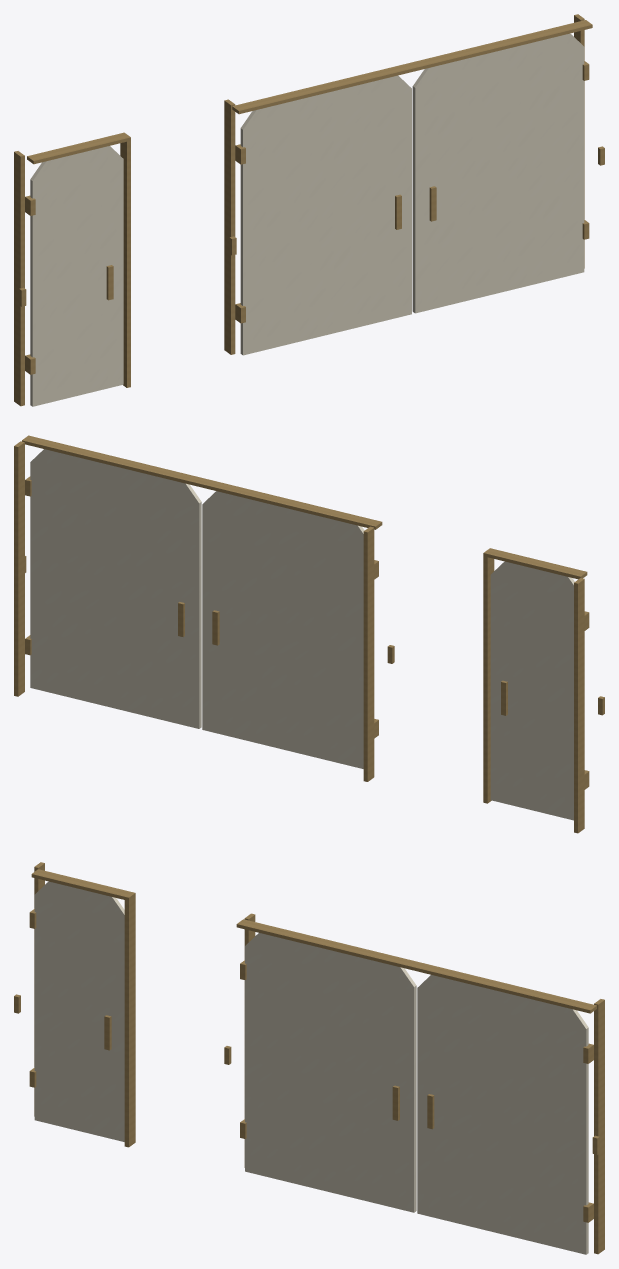
Rendered from D04_PORT_CENTRAL_SHORT_SERVICE_TRANSITIONS_r002.glb.
The picture shows the model from 3 angles, top to bottom: view 1: azimuth 30°, elevation 25°; view 2: azimuth 150°, elevation 25°; view 3: azimuth 330°, elevation 25°; orthographic projection.
Parts seen in each view (by area): view 1: PCCShortStockR_Leaf, PCCShortStockL_Leaf, PCCShortReturn_Leaf, PCCShortStockPair_Head, PCCShortStockL_JambPivot, PCCShortReturn_JambPivot, PCCShortReturn_JambLatch, PCCShortReturn_Head; view 2: PCCShortStockR_Leaf, PCCShortStockL_Leaf, PCCShortReturn_Leaf, PCCShortStockPair_Head, PCCShortStockL_JambPivot, PCCShortStockR_JambPivot, PCCShortReturn_JambPivot, PCCShortReturn_JambLatch, PCCShortReturn_Head; view 3: PCCShortStockL_Leaf, PCCShortStockR_Leaf, PCCShortReturn_Leaf, PCCShortStockPair_Head, PCCShortReturn_JambLatch, PCCShortStockR_JambPivot, PCCShortReturn_Head.
Part boxes in pixels (bbox=[...]): PCCShortStockR_Leaf: bbox=[412, 33, 584, 313]; PCCShortStockL_Leaf: bbox=[240, 75, 411, 355]; PCCShortReturn_Leaf: bbox=[30, 146, 123, 406]; PCCShortStockPair_Head: bbox=[232, 20, 592, 114]; PCCShortStockL_JambPivot: bbox=[224, 99, 235, 354]; PCCShortReturn_JambPivot: bbox=[14, 151, 24, 406]; PCCShortReturn_JambLatch: bbox=[120, 132, 130, 387]; PCCShortReturn_Head: bbox=[27, 133, 129, 164]; PCCShortStockR_Leaf: bbox=[30, 449, 201, 728]; PCCShortStockL_Leaf: bbox=[202, 491, 364, 768]; PCCShortReturn_Leaf: bbox=[490, 561, 574, 820]; PCCShortStockPair_Head: bbox=[22, 435, 382, 529]; PCCShortStockL_JambPivot: bbox=[363, 526, 374, 781]; PCCShortStockR_JambPivot: bbox=[14, 441, 24, 696]; PCCShortReturn_JambPivot: bbox=[574, 578, 584, 833]; PCCShortReturn_JambLatch: bbox=[483, 548, 494, 803]; PCCShortReturn_Head: bbox=[484, 549, 587, 579]; PCCShortStockL_Leaf: bbox=[245, 933, 416, 1212]; PCCShortStockR_Leaf: bbox=[417, 975, 588, 1254]; PCCShortReturn_Leaf: bbox=[34, 881, 124, 1141]; PCCShortStockPair_Head: bbox=[236, 919, 596, 1013]; PCCShortReturn_JambLatch: bbox=[124, 892, 135, 1147]; PCCShortStockR_JambPivot: bbox=[594, 999, 604, 1254]; PCCShortReturn_Head: bbox=[31, 869, 132, 899].
Bounding box in the file's own units: 5.57 × 2.28 × 0.285.
Materials: 2 (2 with a texture image).
